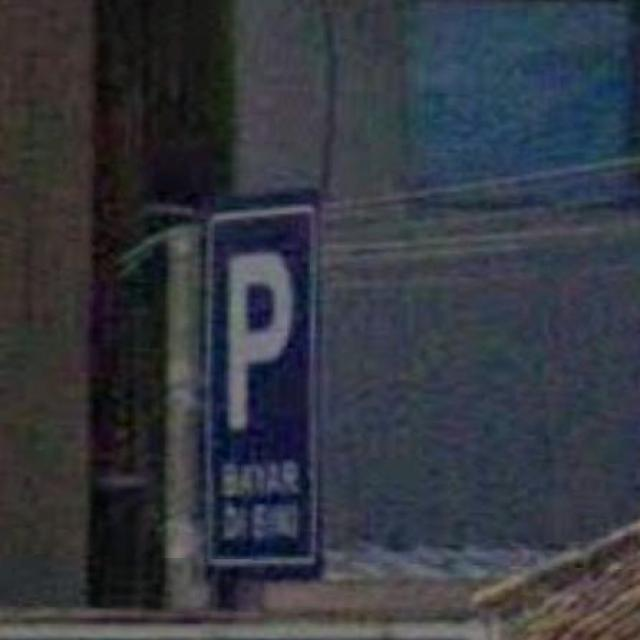traffic sign: (204, 192, 323, 578)
